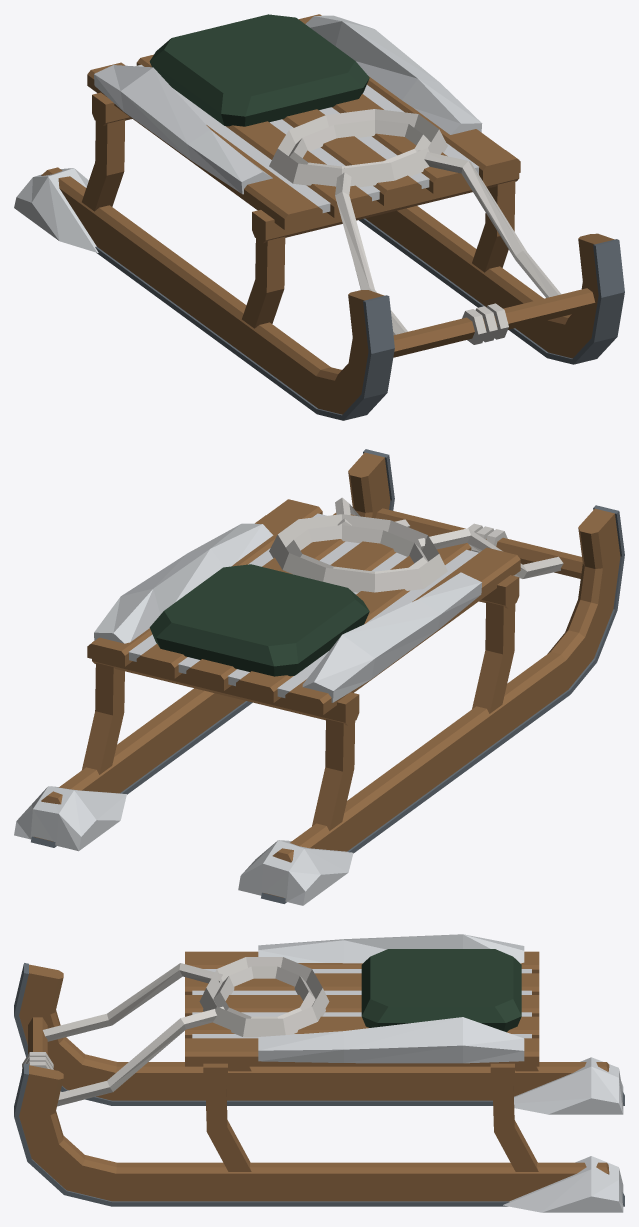
The model's file is wooden-toboggan-940bbc.glb.
The picture shows the model from 3 angles, top to bottom: view 1: azimuth 30°, elevation 25°; view 2: azimuth 150°, elevation 25°; view 3: azimuth 270°, elevation 25°; orthographic projection. The views are drawn at different scales.
Visible parts, largest first — view 1: toboggan; view 2: toboggan; view 3: toboggan.
Part boxes in pixels (<box>): toboggan: <box>14,14,624,420</box>; toboggan: <box>14,449,624,905</box>; toboggan: <box>14,934,624,1212</box>.
Bounding box in the file's own units: 0.49 × 0.3168 × 1.
